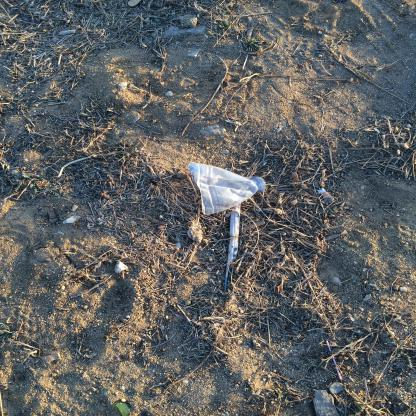plastik: (186, 162, 267, 216)
